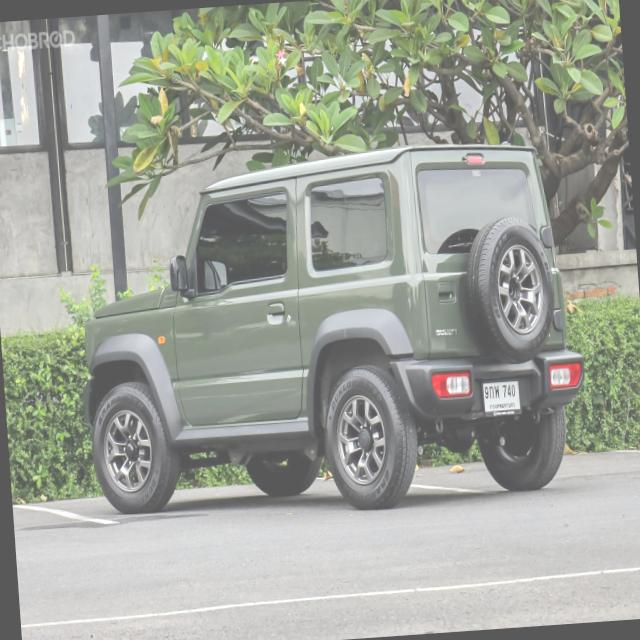license_plate: (480, 378, 523, 422)
